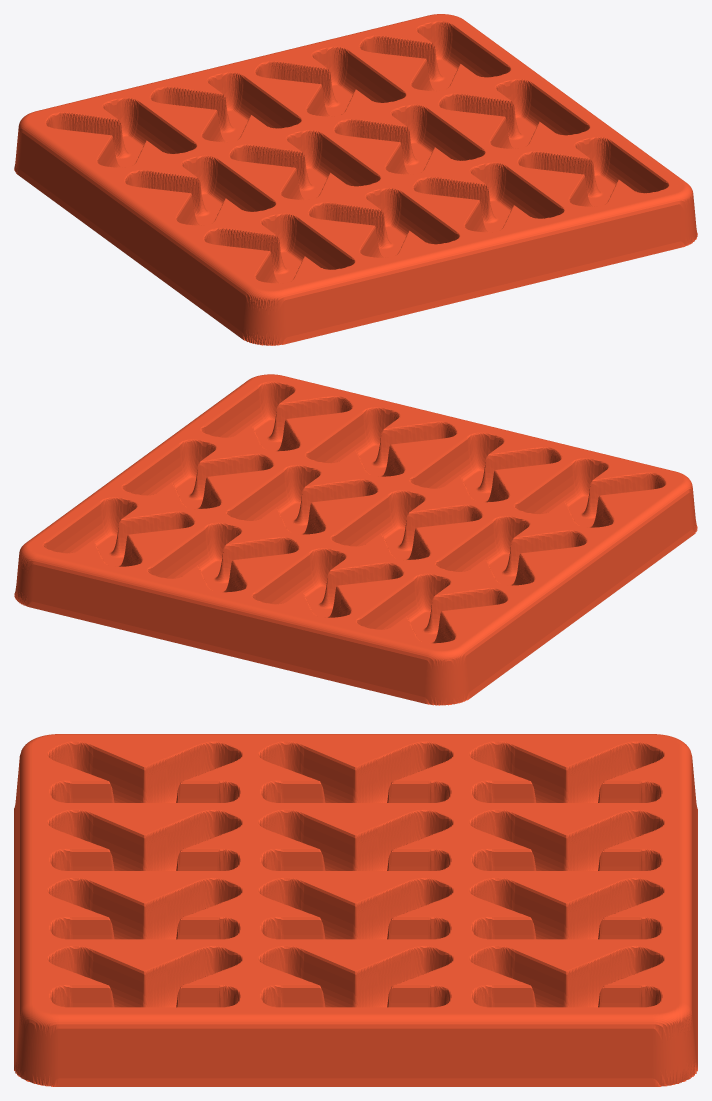
Rendered from mold.glb.
3 renders of one model, top to bottom at view 1: azimuth 30°, elevation 25°; view 2: azimuth 150°, elevation 25°; view 3: azimuth 270°, elevation 25°, orthographic. The views are drawn at different scales.
Parts seen in each view (by area): view 1: geometry_0; view 2: geometry_0; view 3: geometry_0.
Boxes of the visible parts, bbox=[...] form: geometry_0: bbox=[14, 14, 697, 345]; geometry_0: bbox=[14, 374, 697, 705]; geometry_0: bbox=[14, 734, 697, 1086].
Size of the model in its own units: 0.1397 by 0.0145 by 0.1374.
